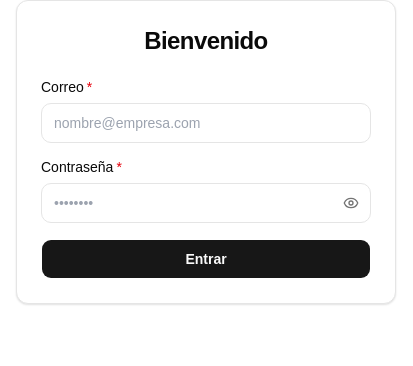
labels, texts and width can be customized
Expected: the heading "Bienvenido" is shown, [144,27,268,54]
Click the button "Entrar" at x=206, y=259, box [41,239,371,279]
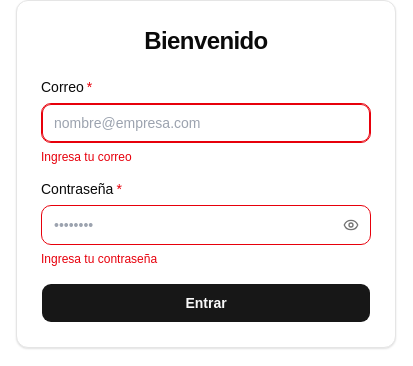
Result: the text "Ingresa tu correo" is shown at [41,150,132,164]
